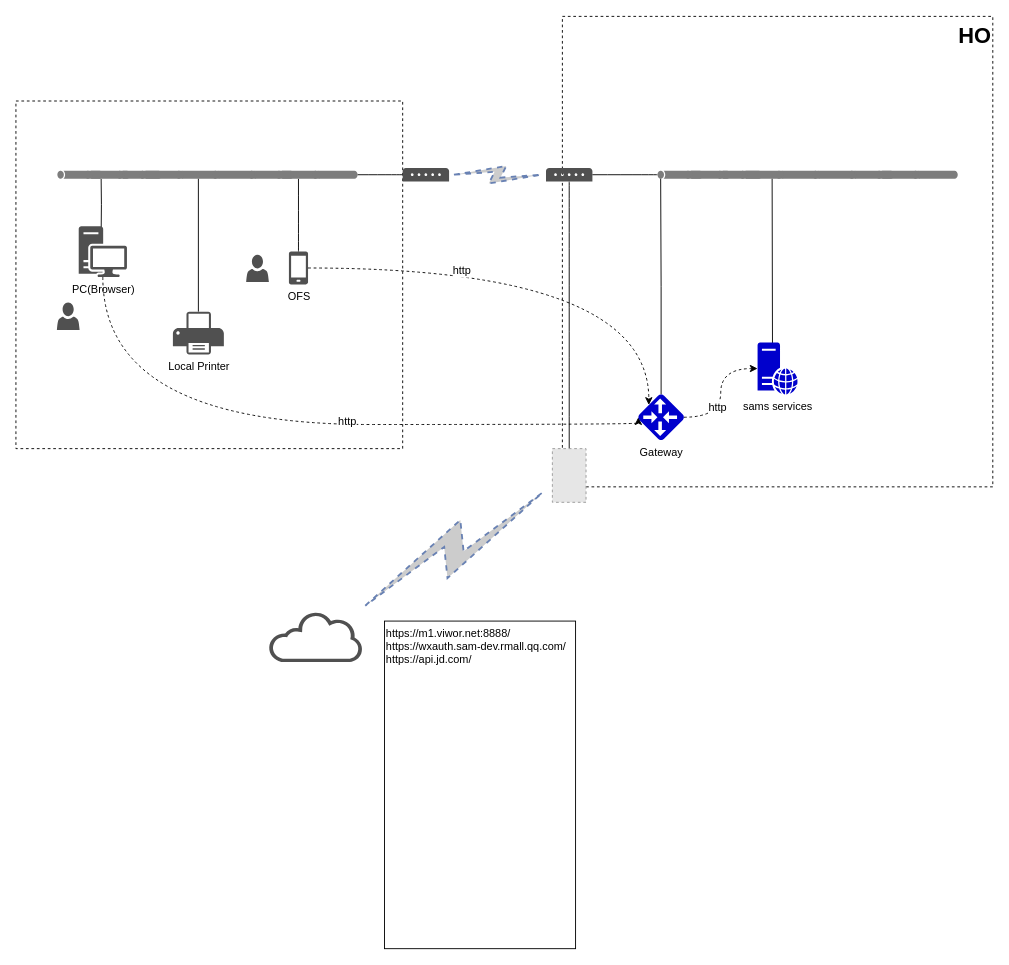
The diagram is 1009 pixels wide and 965 high, and some of its shapes have lost their labels. Grey dashed boxes stand in for pictures. Here are the shapes that lost their labels. From the top down, the box of each, then its label:
(15, 100, 403, 449): Store
(268, 612, 363, 662): Internet
